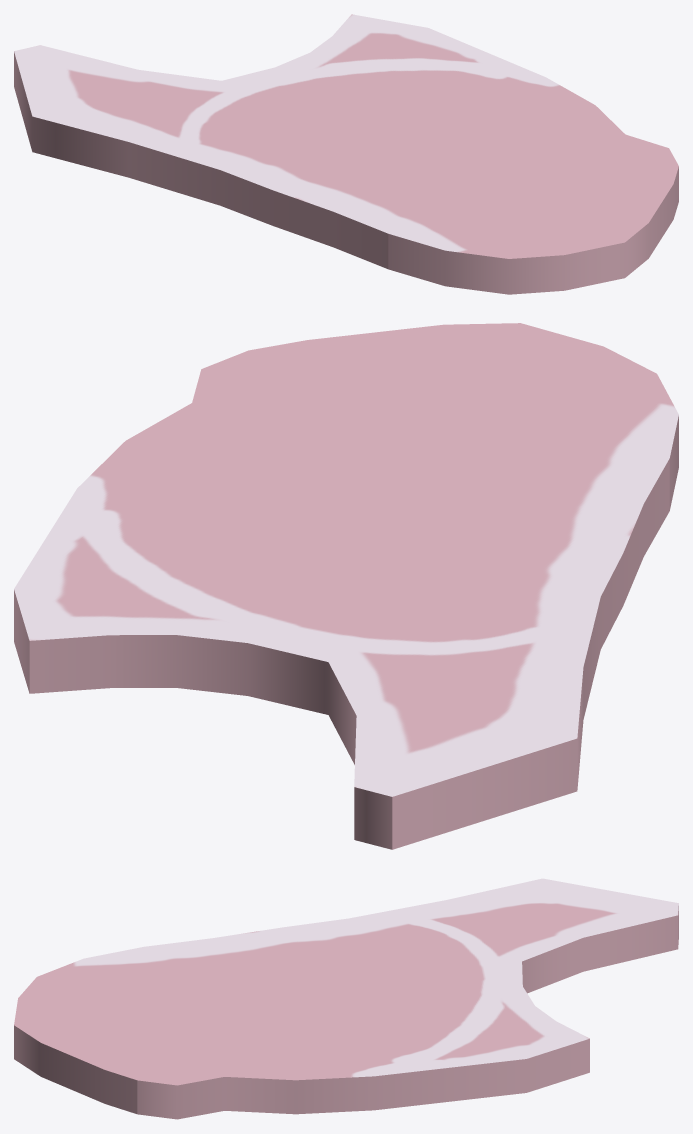
File: y4porkchop.fbx
The picture shows the model from 3 angles, top to bottom: view 1: azimuth 30°, elevation 25°; view 2: azimuth 150°, elevation 25°; view 3: azimuth 270°, elevation 25°; orthographic projection. The views are drawn at different scales.
Visible parts, largest first — view 1: Box001; view 2: Box001; view 3: Box001.
Boxes of the visible parts, x1,y1,x2,y2 form: Box001: [14, 14, 678, 294]; Box001: [14, 323, 678, 849]; Box001: [14, 878, 678, 1119].
Bounding box in the file's own units: 342 × 26.19 × 464.
1 material, 1 textured.
